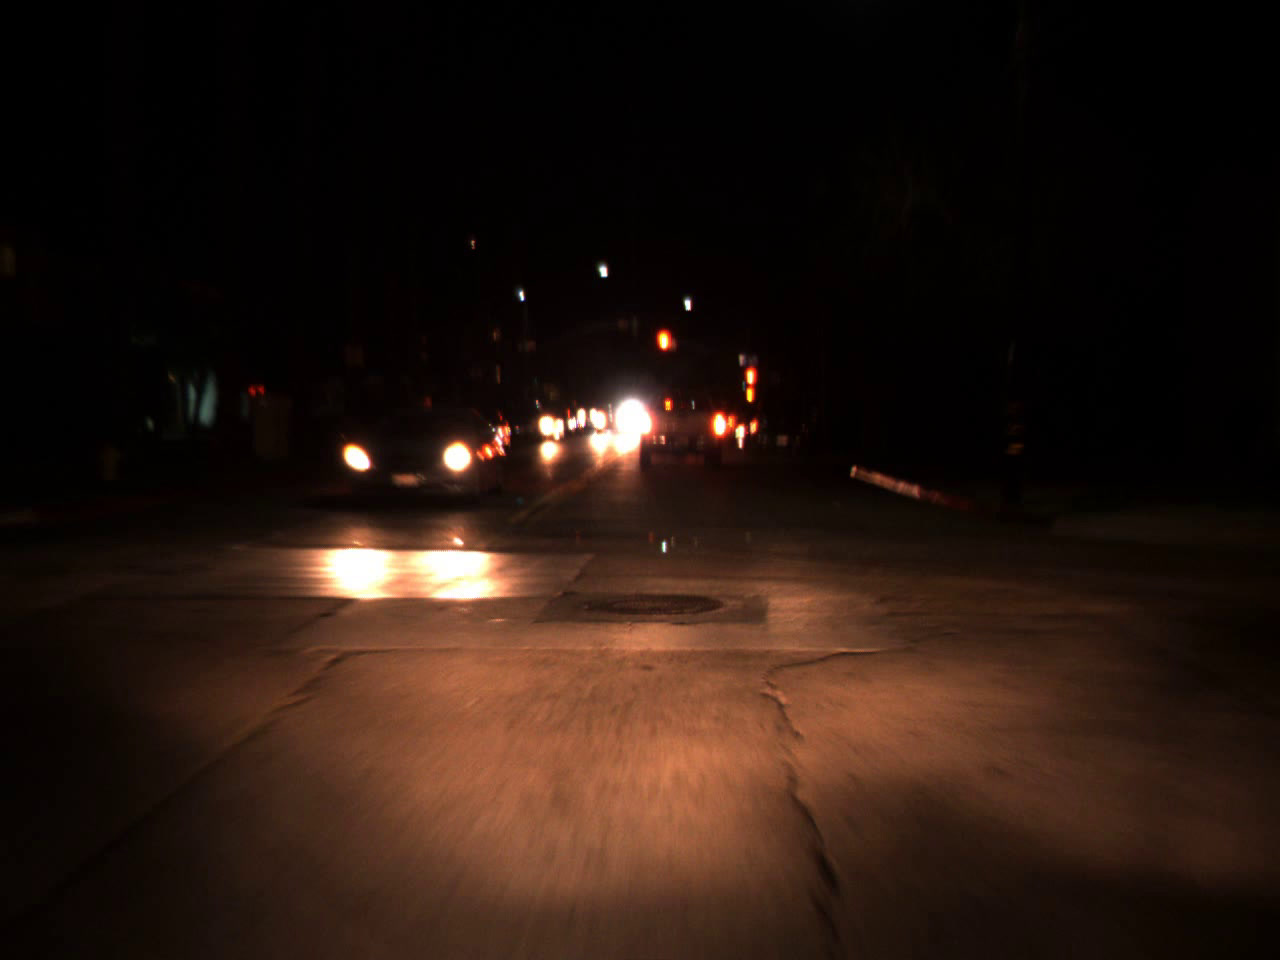stop: (653, 325, 675, 379), (740, 366, 758, 403)
